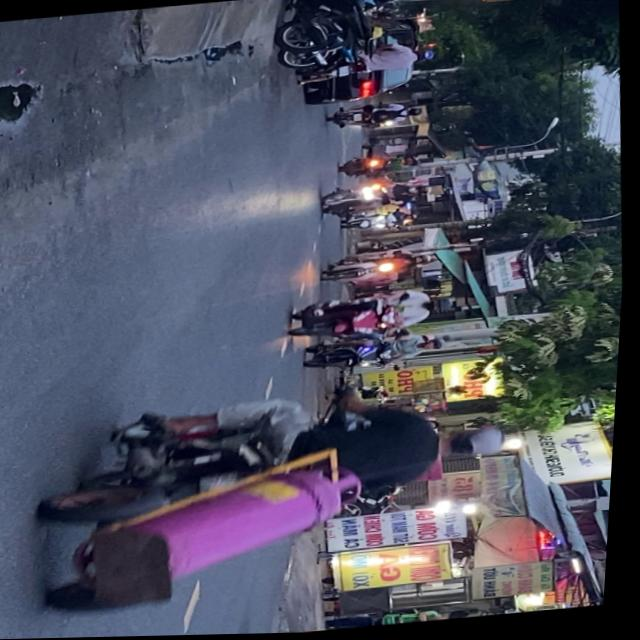helmet: (430, 299, 458, 316), (425, 339, 450, 354)
licenseplate: (54, 376, 520, 529), (288, 287, 461, 346), (303, 328, 452, 377)
motorcyclist: (445, 426, 512, 465)
